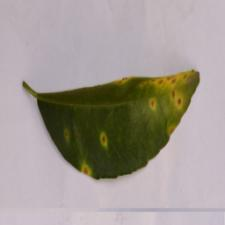Canker: (64, 77, 200, 168)
